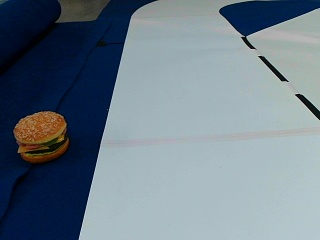burger: (13, 110, 70, 163)
